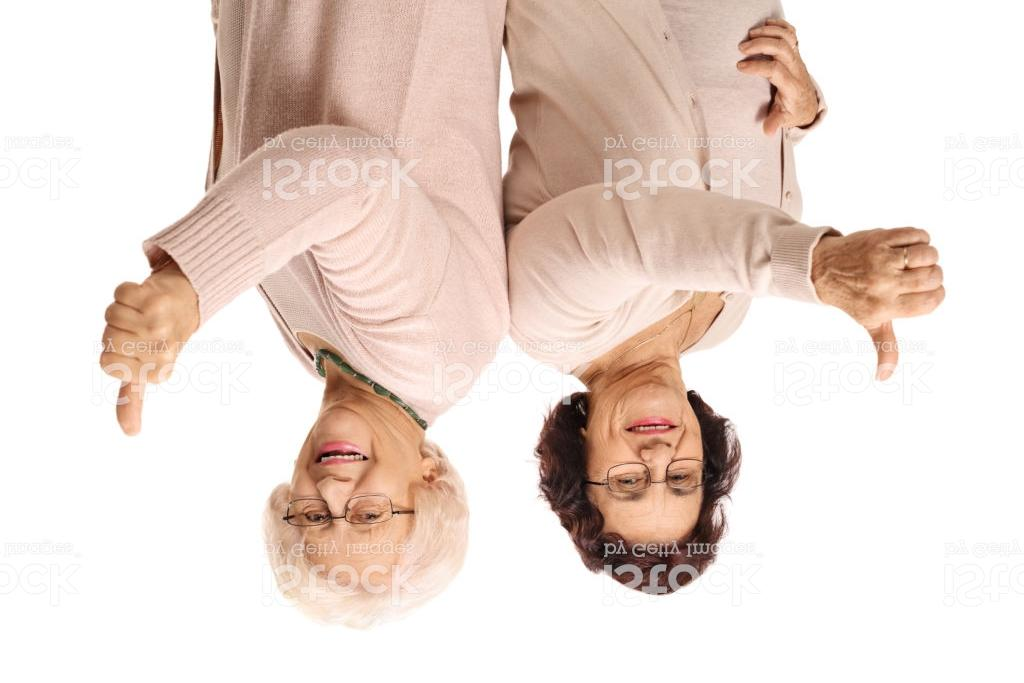thumbsdown: (851, 223, 948, 384), (98, 278, 180, 439)
